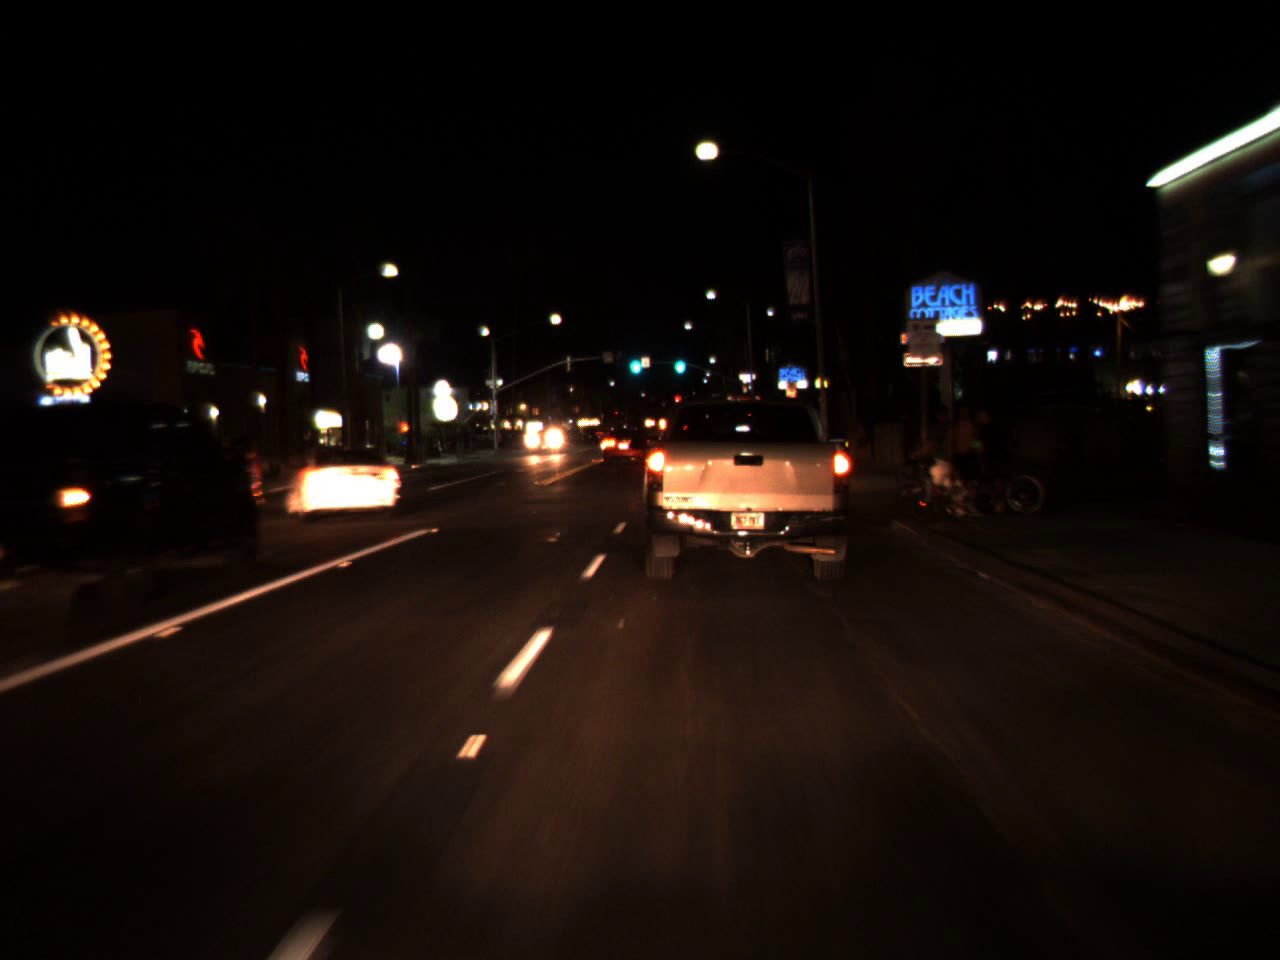go: (624, 343, 645, 379), (671, 345, 687, 378)
